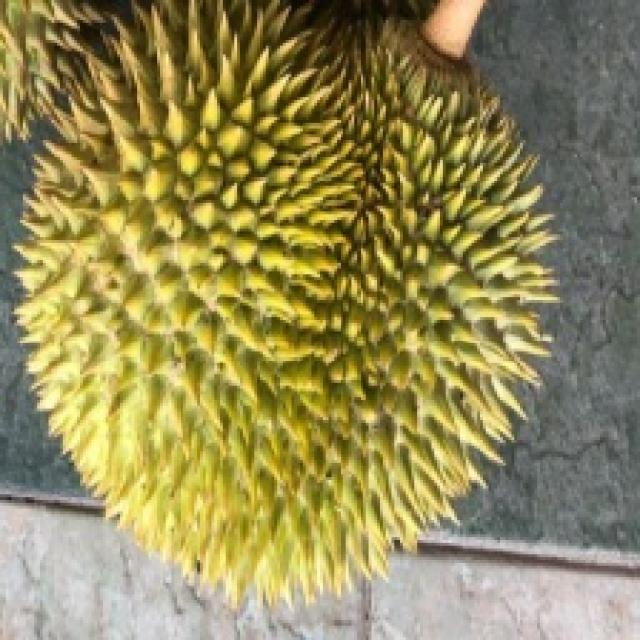d24: (46, 15, 519, 574)
